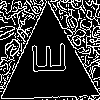E: (24, 40, 65, 76)
